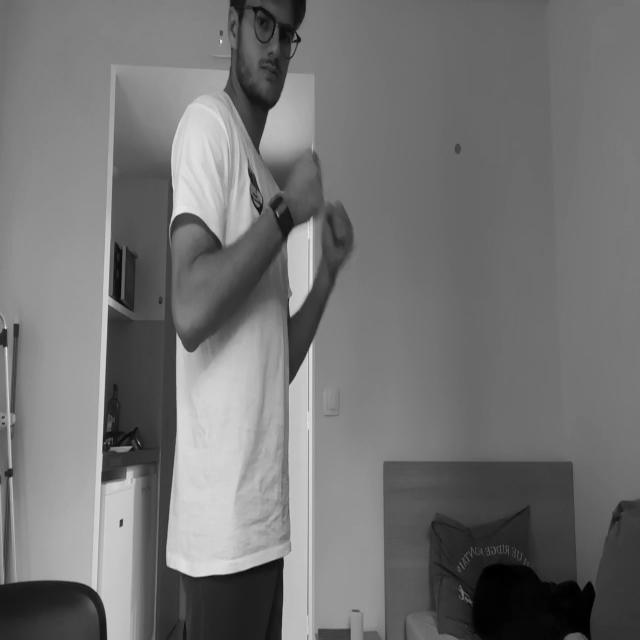elbow: (169, 258, 213, 354)
hand: (284, 145, 324, 222), (321, 198, 353, 271)
shoulder: (174, 100, 228, 191)
